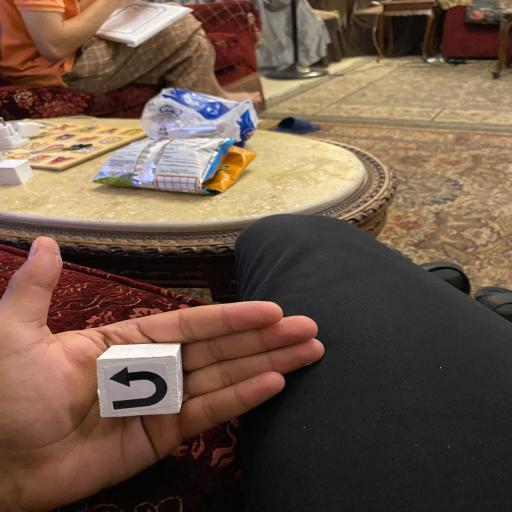Undo: (93, 341, 188, 420)
